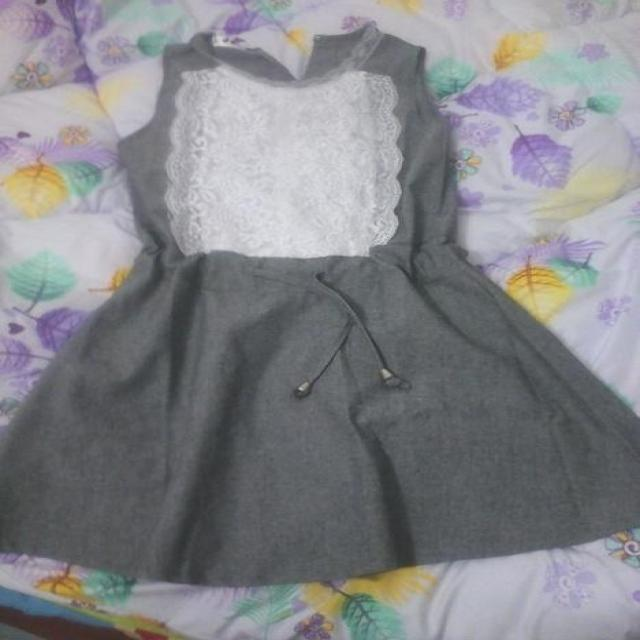vest dress: (3, 29, 637, 571)
